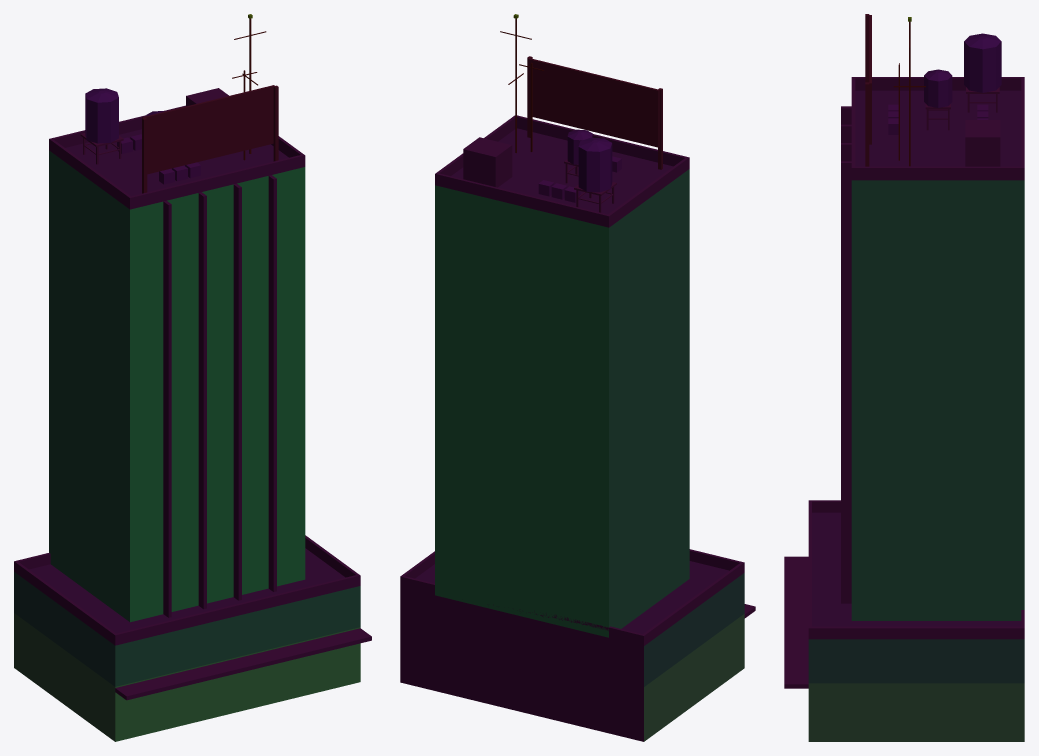
File: midrise_e.glb
3 renders of one model, left to right at view 1: azimuth 30°, elevation 25°; view 2: azimuth 150°, elevation 25°; view 3: azimuth 270°, elevation 25°, orthographic. The views are drawn at different scales.
Parts seen in each view (by area): view 1: midrise_e; view 2: midrise_e; view 3: midrise_e.
Part boxes in pixels (box(x1,y1,x2,y2)): midrise_e: box(14, 14, 371, 741); midrise_e: box(400, 14, 755, 741); midrise_e: box(784, 14, 1024, 741).
Size of the model in its own units: 22.4 by 56.5 by 17.8.
